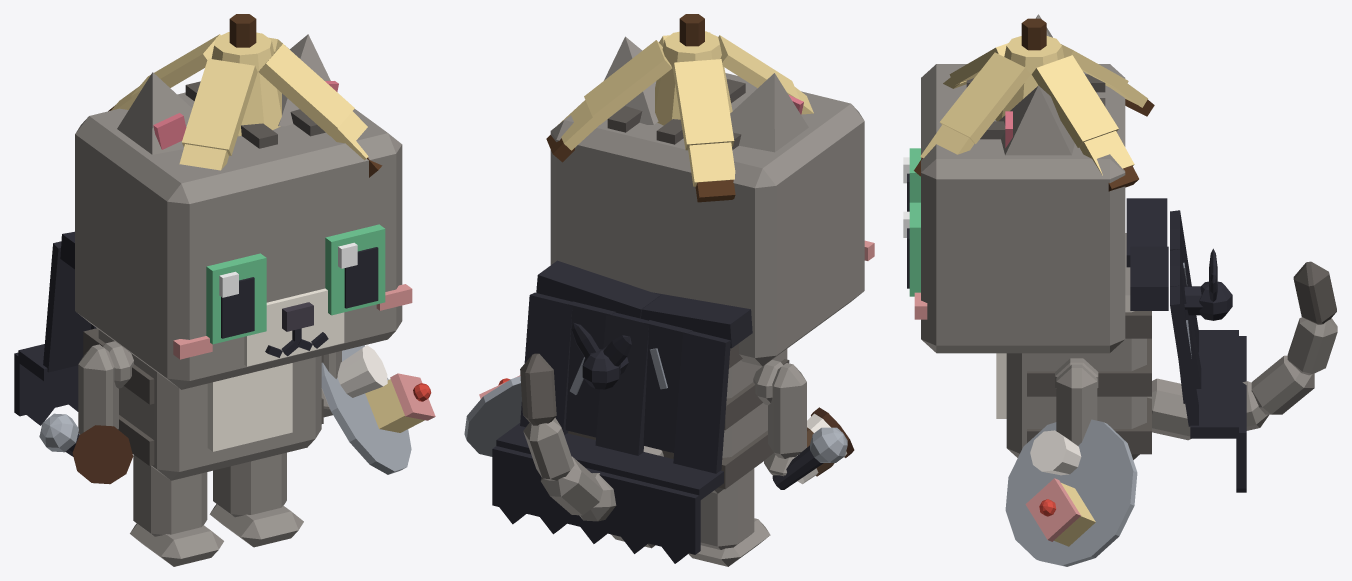
File: CatCafe_Cat_Binbag_Work.fbx
3 views of the same model, side by side, from view 1: azimuth 30°, elevation 25°; view 2: azimuth 150°, elevation 25°; view 3: azimuth 270°, elevation 25° (orthographic). The views are drawn at different scales.
Parts seen in each view (by area): view 1: CatCafe_Cat_Binbag_Work_Head, CatCafe_Cat_Binbag_Work_Body, CatCafe_Cat_Binbag_Work_Prop2, CatCafe_Cat_Binbag_Work_Held_Waiter, CatCafe_Cat_Binbag_Work_Prop, CatCafe_Cat_Binbag_Work_LegB2, CatCafe_Cat_Binbag_Work_LegB1, CatCafe_Cat_Binbag_Work_Eye2, CatCafe_Cat_Binbag_Work_Eye1, CatCafe_Cat_Binbag_Work_EarR, CatCafe_Cat_Binbag_Work_LegF2, CatCafe_Cat_Binbag_Work_Held_Barista (+2 smaller); view 2: CatCafe_Cat_Binbag_Work_Head, CatCafe_Cat_Binbag_Work_Prop, CatCafe_Cat_Binbag_Work_Prop2, CatCafe_Cat_Binbag_Work_Tail, CatCafe_Cat_Binbag_Work_Body, CatCafe_Cat_Binbag_Work_LegB2, CatCafe_Cat_Binbag_Work_EarR, CatCafe_Cat_Binbag_Work_LegF2, CatCafe_Cat_Binbag_Work_Held_Waiter, CatCafe_Cat_Binbag_Work_Held_Entertainer, CatCafe_Cat_Binbag_Work_EarL, CatCafe_Cat_Binbag_Work_Held_Barista; view 3: CatCafe_Cat_Binbag_Work_Head, CatCafe_Cat_Binbag_Work_Prop, CatCafe_Cat_Binbag_Work_Prop2, CatCafe_Cat_Binbag_Work_Held_Waiter, CatCafe_Cat_Binbag_Work_Body, CatCafe_Cat_Binbag_Work_Tail, CatCafe_Cat_Binbag_Work_EarL, CatCafe_Cat_Binbag_Work_LegF1, CatCafe_Cat_Binbag_Work_Eye1, CatCafe_Cat_Binbag_Work_Eye2.
Boxes of the visible parts, x1,y1,x2,y2 form: CatCafe_Cat_Binbag_Work_Head: [75, 81, 412, 389]; CatCafe_Cat_Binbag_Work_Body: [83, 328, 323, 480]; CatCafe_Cat_Binbag_Work_Prop2: [108, 14, 382, 177]; CatCafe_Cat_Binbag_Work_Held_Waiter: [321, 345, 435, 474]; CatCafe_Cat_Binbag_Work_Prop: [14, 231, 96, 425]; CatCafe_Cat_Binbag_Work_LegB2: [130, 454, 223, 566]; CatCafe_Cat_Binbag_Work_LegB1: [209, 452, 303, 547]; CatCafe_Cat_Binbag_Work_Eye2: [206, 253, 266, 344]; CatCafe_Cat_Binbag_Work_Eye1: [325, 224, 385, 315]; CatCafe_Cat_Binbag_Work_EarR: [117, 72, 192, 154]; CatCafe_Cat_Binbag_Work_LegF2: [78, 344, 118, 434]; CatCafe_Cat_Binbag_Work_Held_Barista: [72, 425, 133, 484]; CatCafe_Cat_Binbag_Work_Head: [550, 73, 874, 366]; CatCafe_Cat_Binbag_Work_Prop: [492, 260, 752, 563]; CatCafe_Cat_Binbag_Work_Prop2: [546, 14, 813, 202]; CatCafe_Cat_Binbag_Work_Tail: [520, 353, 663, 521]; CatCafe_Cat_Binbag_Work_Body: [568, 343, 789, 493]; CatCafe_Cat_Binbag_Work_LegB2: [688, 468, 770, 566]; CatCafe_Cat_Binbag_Work_EarR: [730, 73, 808, 152]; CatCafe_Cat_Binbag_Work_LegF2: [764, 363, 806, 476]; CatCafe_Cat_Binbag_Work_Held_Waiter: [464, 375, 521, 456]; CatCafe_Cat_Binbag_Work_Held_Entertainer: [772, 427, 847, 489]; CatCafe_Cat_Binbag_Work_EarL: [604, 36, 658, 124]; CatCafe_Cat_Binbag_Work_Held_Barista: [796, 407, 854, 484]; CatCafe_Cat_Binbag_Work_Head: [914, 64, 1125, 353]; CatCafe_Cat_Binbag_Work_Prop: [1126, 198, 1246, 492]; CatCafe_Cat_Binbag_Work_Prop2: [914, 18, 1154, 191]; CatCafe_Cat_Binbag_Work_Held_Waiter: [1005, 419, 1137, 566]; CatCafe_Cat_Binbag_Work_Body: [996, 233, 1151, 459]; CatCafe_Cat_Binbag_Work_Tail: [1147, 261, 1337, 440]; CatCafe_Cat_Binbag_Work_EarL: [999, 85, 1074, 155]; CatCafe_Cat_Binbag_Work_LegF1: [1056, 364, 1097, 445]; CatCafe_Cat_Binbag_Work_Eye1: [903, 202, 920, 296]; CatCafe_Cat_Binbag_Work_Eye2: [903, 148, 920, 211].
Size of the model in its own units: 1.53 by 2.05 by 1.62.
Materials: 1 (1 with a texture image).
